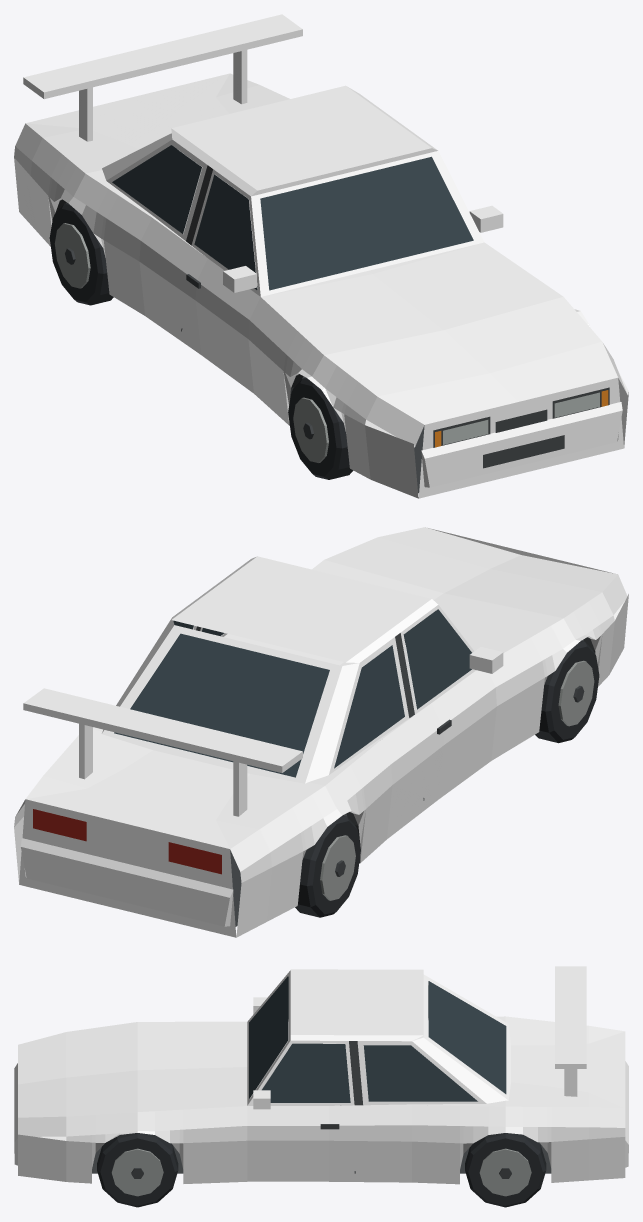
The model's file is hartwig_wiesel_corrida.glb.
3 views of the same model, one above another, from view 1: azimuth 30°, elevation 25°; view 2: azimuth 150°, elevation 25°; view 3: azimuth 270°, elevation 25° (orthographic). The views are drawn at different scales.
Visible parts, largest first — view 1: hartwig_wiesel_corrida; view 2: hartwig_wiesel_corrida; view 3: hartwig_wiesel_corrida.
Part boxes in pixels (box(x1,y1,x2,y2)): hartwig_wiesel_corrida: box(14, 14, 628, 498); hartwig_wiesel_corrida: box(14, 527, 628, 937); hartwig_wiesel_corrida: box(14, 966, 628, 1207).
Size of the model in its own units: 1.69 by 1.2 by 4.26.
8 materials, 1 textured.
